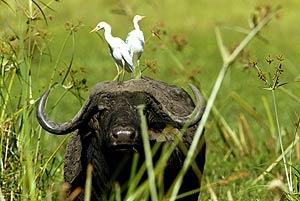Buffalo: (28, 82, 251, 183)
